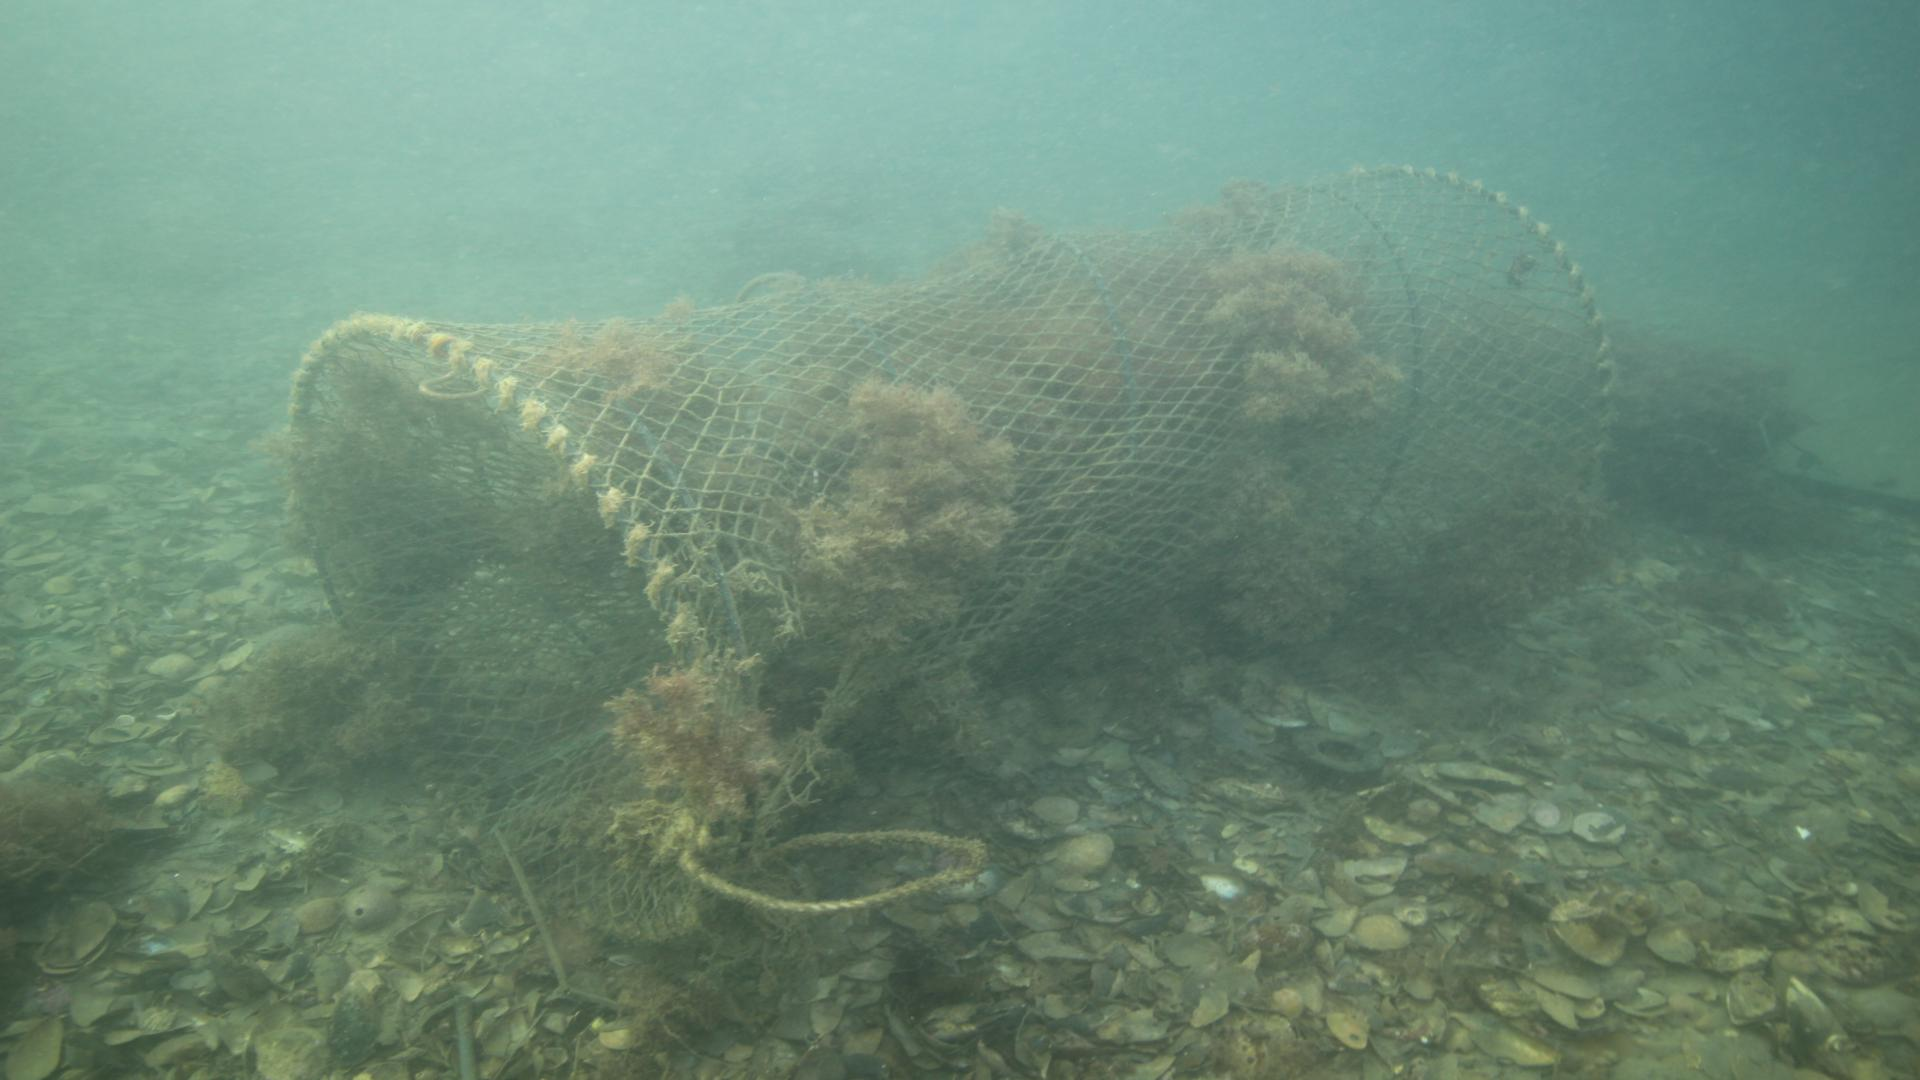rope: (675, 804, 990, 927)
spring fish trap: (281, 160, 1613, 947)
